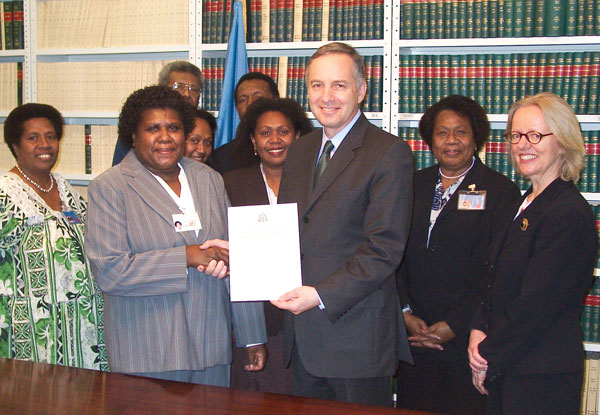person: (100, 87, 236, 391), (306, 50, 404, 403), (495, 89, 587, 413), (409, 88, 492, 405), (4, 106, 101, 371), (239, 101, 299, 202), (160, 62, 205, 102), (230, 73, 275, 113), (187, 107, 215, 167)
